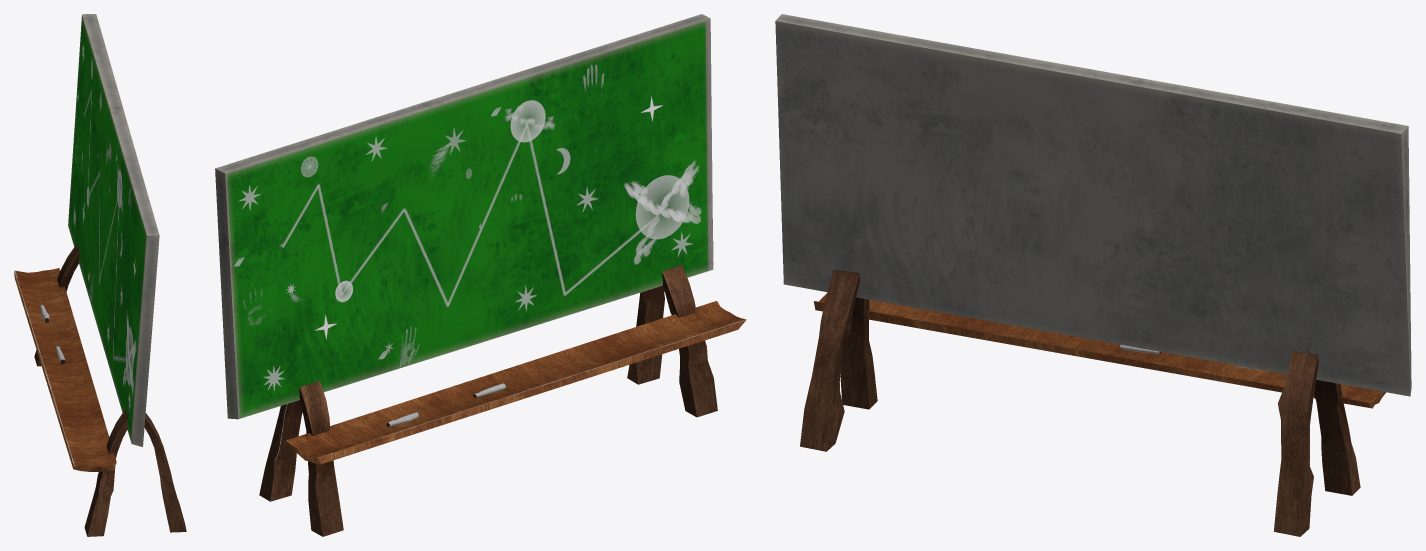
File: rectangulo3d3.glb
3 views of the same model, side by side, from view 1: azimuth 30°, elevation 25°; view 2: azimuth 150°, elevation 25°; view 3: azimuth 270°, elevation 25° (orthographic). The views are drawn at different scales.
Parts seen in each view (by area): view 1: pizarra_gep, pizarra_gep1, pats_pizzarra_geo3, pats_pizzarra_geo2, pats_pizzarra_geo1; view 2: pizarra_gep, pizarra_gep1, pats_pizzarra_geo3, pats_pizzarra_geo1, pats_pizzarra_geo, pats_pizzarra_geo2; view 3: pizarra_gep, pizarra_gep1, pats_pizzarra_geo, pats_pizzarra_geo2, pats_pizzarra_geo1, pats_pizzarra_geo3.
Part boxes in pixels (x1=…): pizarra_gep: x1=68, y1=14, x2=159, y2=446; pizarra_gep1: x1=14, y1=268, x2=116, y2=471; pats_pizzarra_geo3: x1=84, y1=409, x2=128, y2=536; pats_pizzarra_geo2: x1=144, y1=413, x2=186, y2=532; pats_pizzarra_geo1: x1=34, y1=244, x2=79, y2=366; pizarra_gep: x1=215, y1=14, x2=713, y2=419; pizarra_gep1: x1=286, y1=301, x2=746, y2=464; pats_pizzarra_geo3: x1=662, y1=265, x2=717, y2=417; pats_pizzarra_geo1: x1=299, y1=380, x2=343, y2=536; pats_pizzarra_geo: x1=259, y1=400, x2=302, y2=501; pats_pizzarra_geo2: x1=627, y1=285, x2=664, y2=384; pizarra_gep: x1=775, y1=14, x2=1411, y2=396; pizarra_gep1: x1=813, y1=293, x2=1385, y2=408; pats_pizzarra_geo: x1=1273, y1=351, x2=1318, y2=536; pats_pizzarra_geo2: x1=800, y1=269, x2=859, y2=451; pats_pizzarra_geo1: x1=1314, y1=380, x2=1360, y2=495; pats_pizzarra_geo3: x1=840, y1=297, x2=877, y2=409.
Bounding box in the file's own units: 2.29 × 2.82 × 4.03.
1 material, 1 textured.
